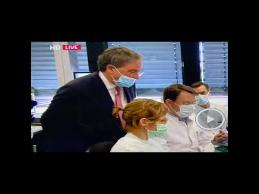mask_weared_incorrect: (111, 66, 144, 89)
with_mask: (142, 117, 173, 139), (172, 99, 199, 118), (194, 91, 211, 105)
